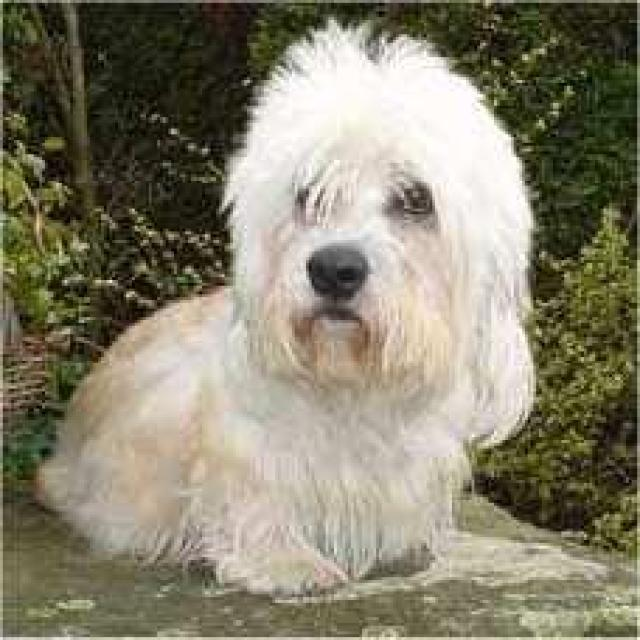dandie_dinmont: (34, 17, 533, 597)
